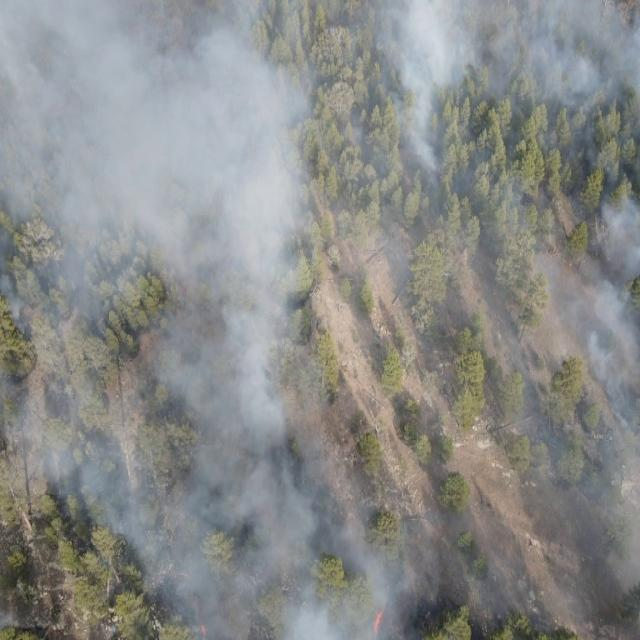fire: (369, 601, 391, 640), (196, 619, 209, 640)
smoke: (0, 0, 640, 284), (1, 282, 382, 529), (482, 281, 639, 640), (106, 529, 483, 640), (0, 606, 28, 640)
